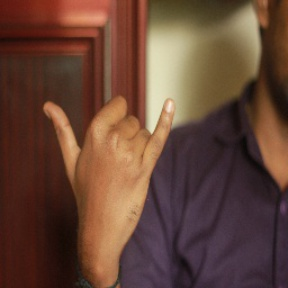J: (39, 80, 176, 236)
